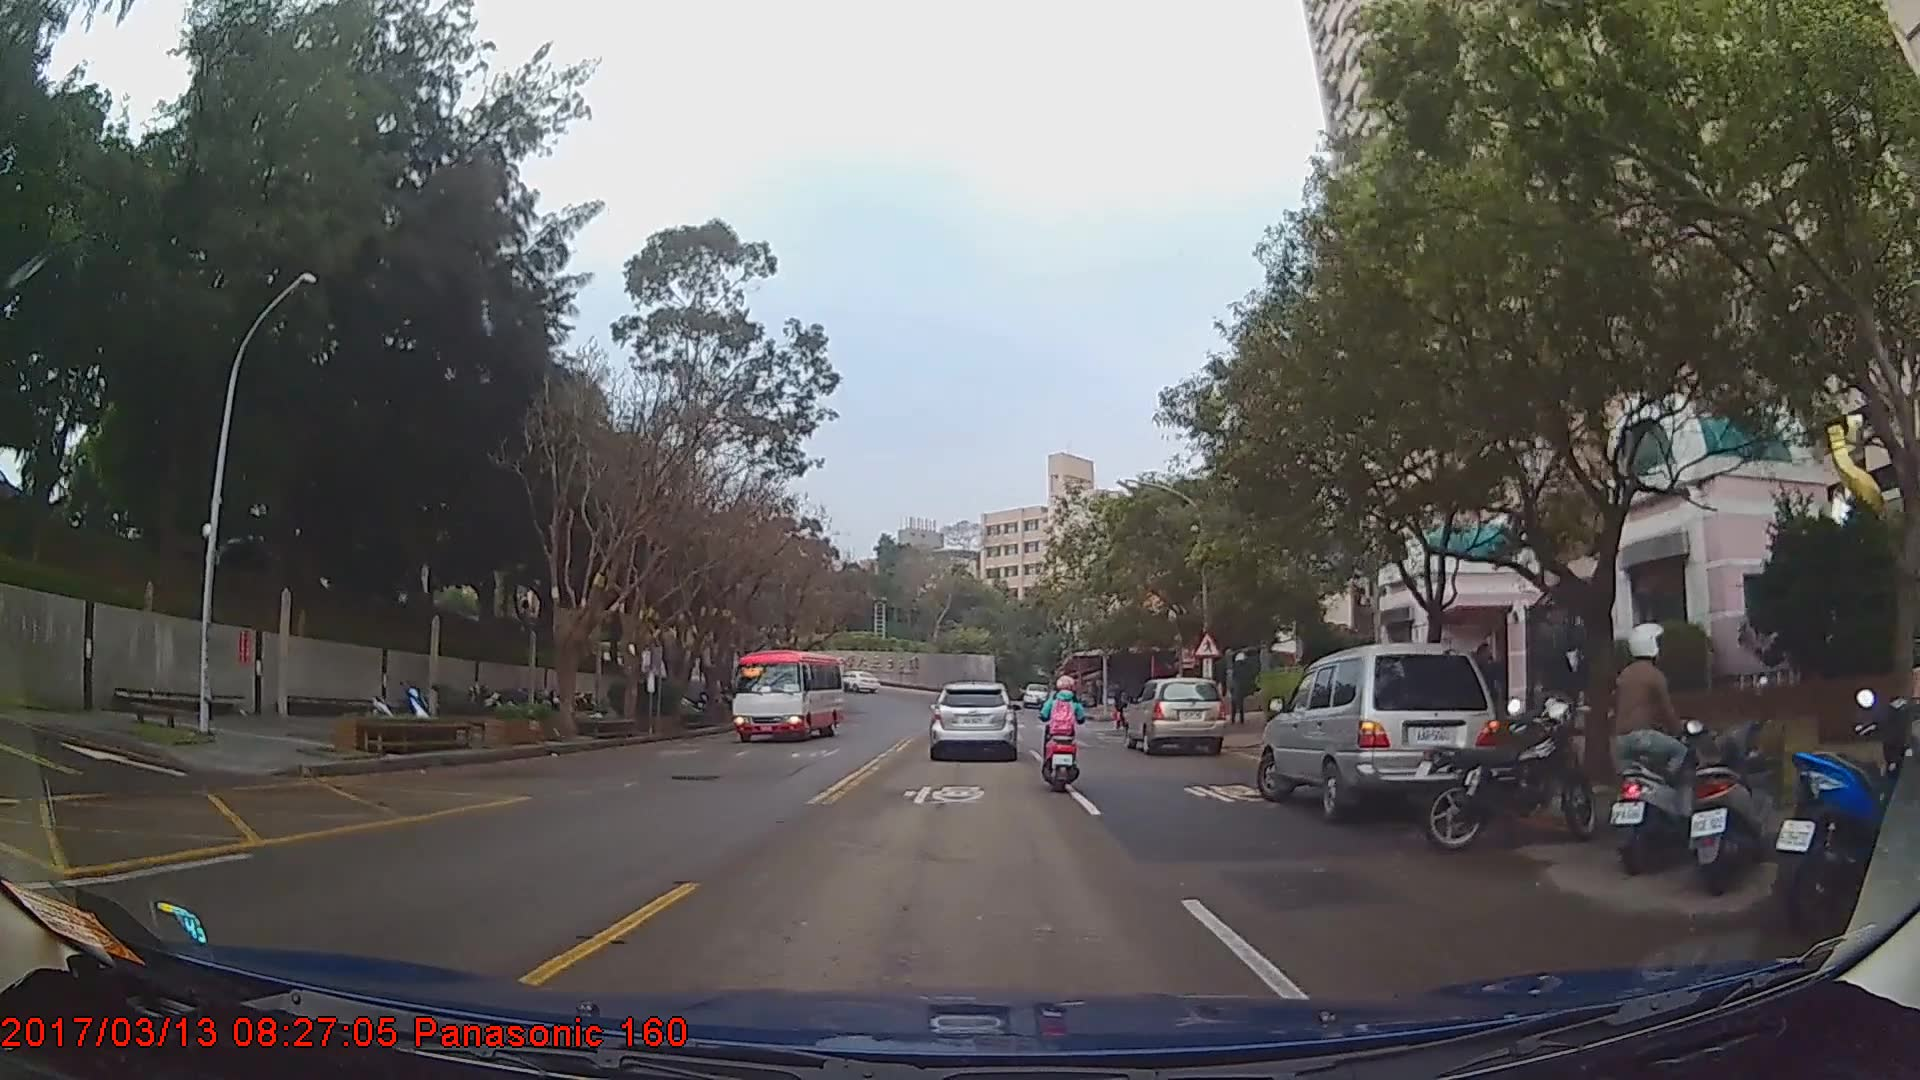rider: (1035, 667, 1089, 797)
vehicle: (1258, 640, 1504, 822), (728, 650, 841, 740), (1126, 676, 1226, 752), (927, 678, 1018, 759), (834, 666, 878, 693)
